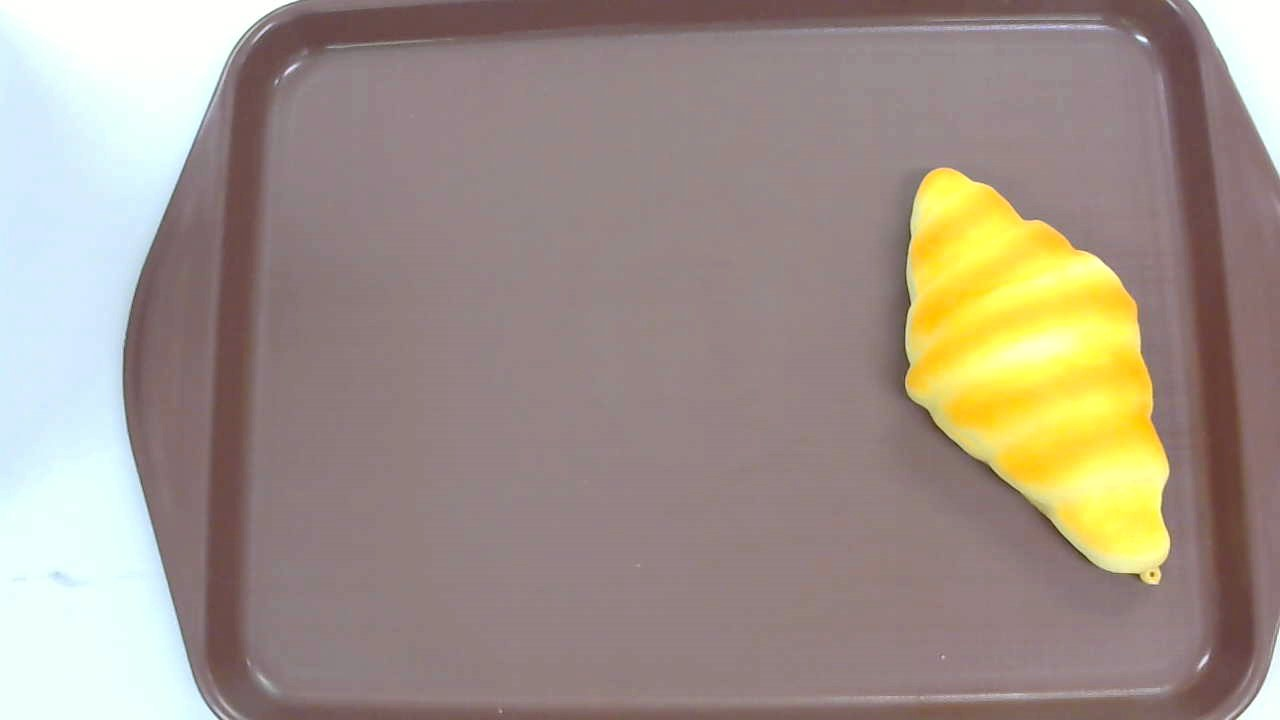croissant: (903, 163, 1172, 584)
